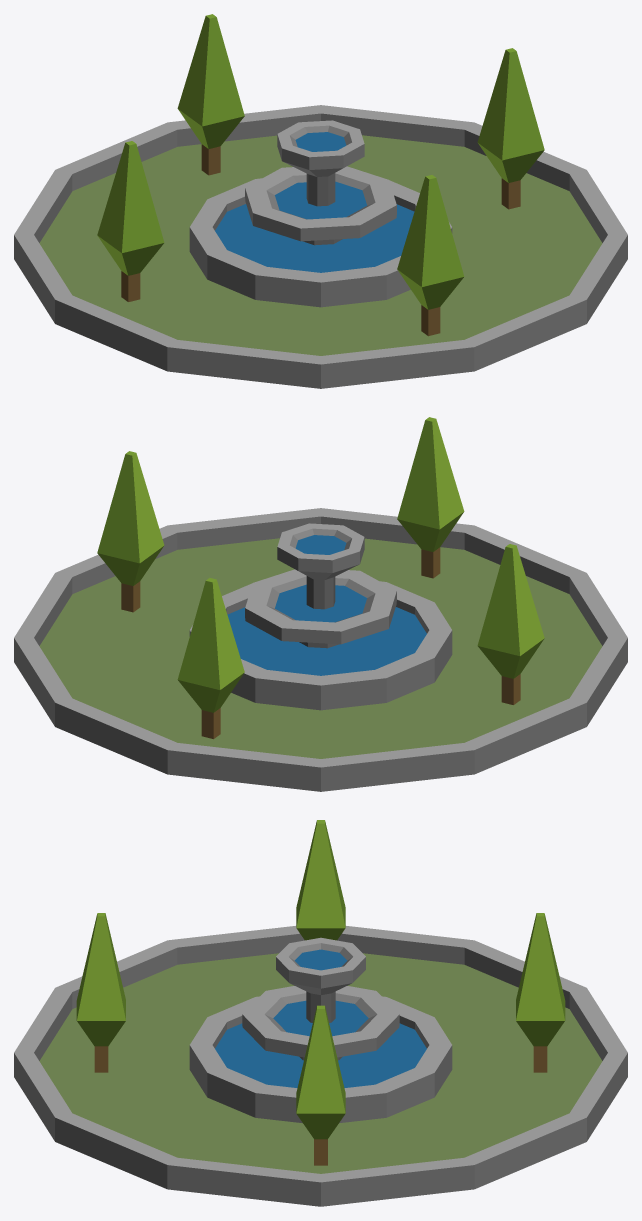
The model's file is SA_Bld_HospitalFountain_01.gltf.
3 views of the same model, one above another, from view 1: azimuth 30°, elevation 25°; view 2: azimuth 150°, elevation 25°; view 3: azimuth 270°, elevation 25° (orthographic).
Visible parts, largest first — view 1: SA_Bld_HospitalFountain_01; view 2: SA_Bld_HospitalFountain_01; view 3: SA_Bld_HospitalFountain_01.
Part boxes in pixels (box(x1,y1,x2,y2)): SA_Bld_HospitalFountain_01: box(14, 14, 627, 388); SA_Bld_HospitalFountain_01: box(14, 417, 627, 791); SA_Bld_HospitalFountain_01: box(14, 820, 627, 1206).
Bounding box in the file's own units: 26.88 × 7.85 × 26.88.
Materials: 1 (1 with a texture image).
